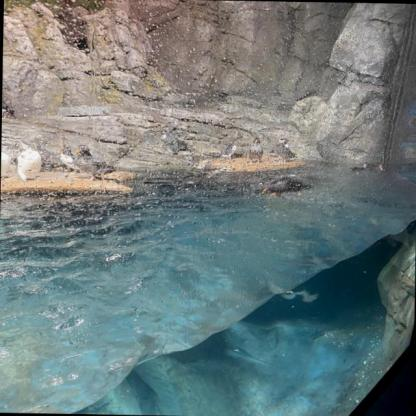puffin: (75, 144, 113, 181), (261, 176, 313, 198), (16, 141, 45, 180), (270, 138, 298, 163), (350, 160, 386, 176), (58, 143, 79, 170), (220, 138, 237, 160), (248, 137, 262, 163), (1, 148, 11, 180)
